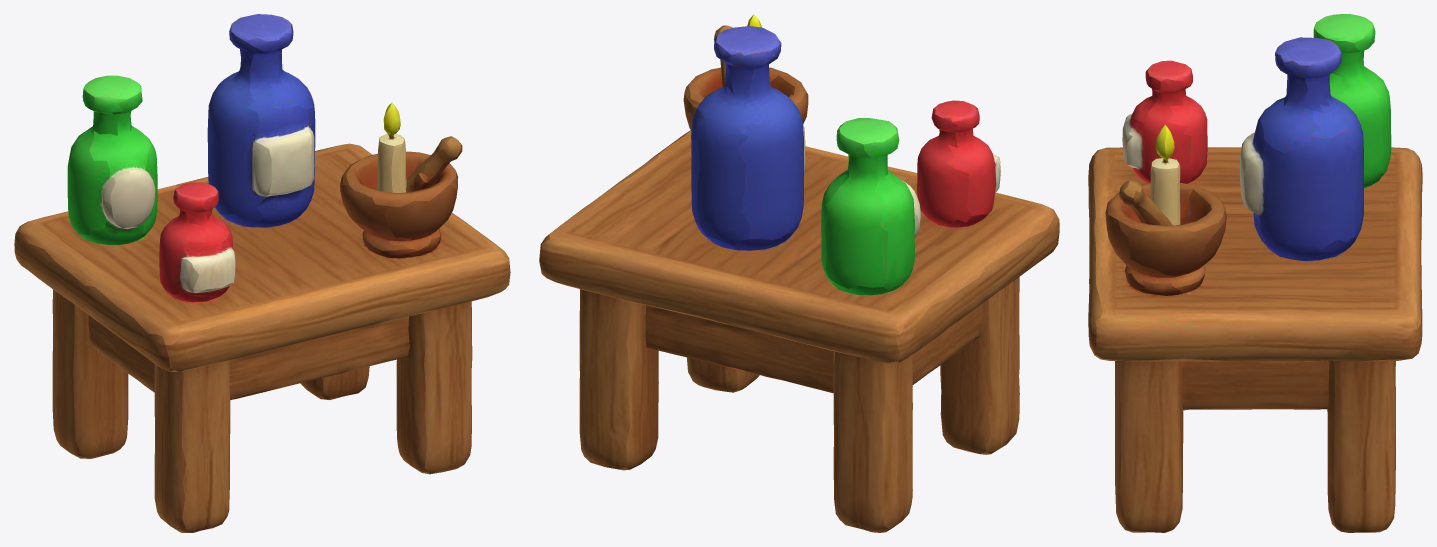
Rendered from sz-potion-table.glb.
3 views of the same model, side by side, from view 1: azimuth 30°, elevation 25°; view 2: azimuth 150°, elevation 25°; view 3: azimuth 270°, elevation 25° (orthographic). The views are drawn at different scales.
Visible parts, largest first — view 1: geometry_0; view 2: geometry_0; view 3: geometry_0.
Part boxes in pixels (x1,y1,x2,y2): geometry_0: (14,14,510,532); geometry_0: (539,14,1059,532); geometry_0: (1088,14,1422,532).
Bounding box in the file's own units: 0.9022 × 1 × 0.7096.
1 material, 1 textured.
